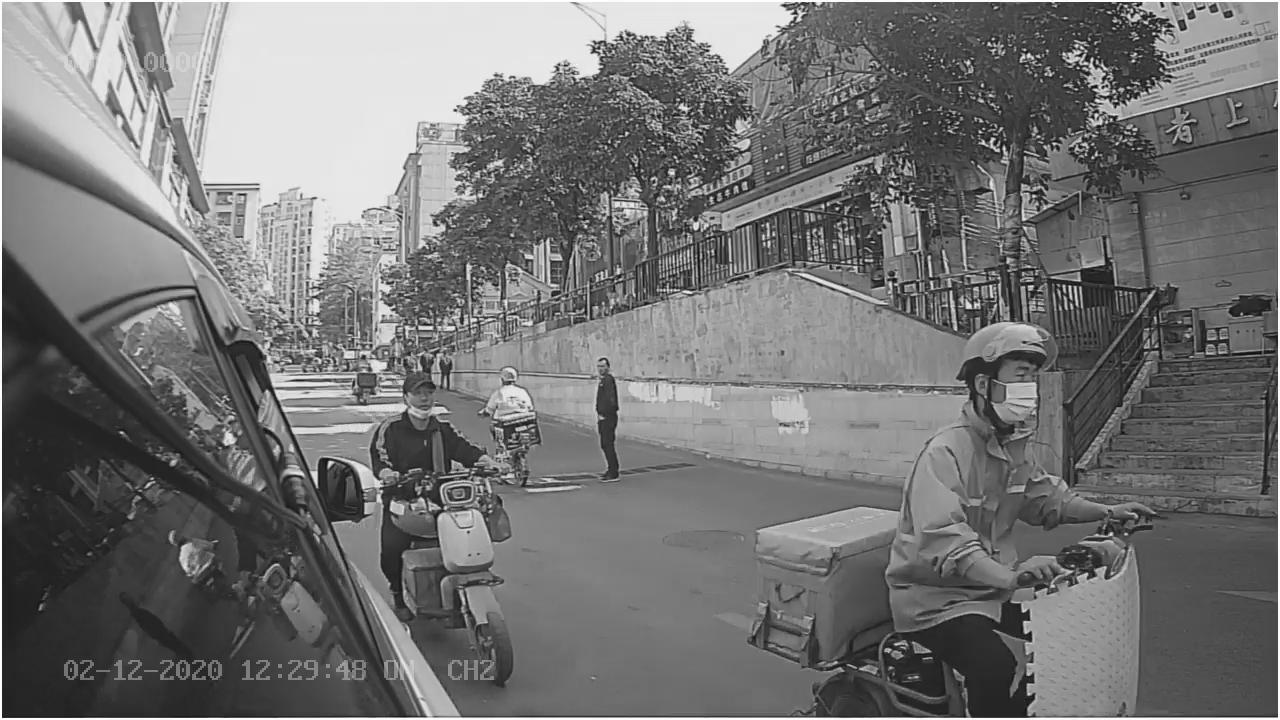person: (891, 305, 1077, 580)
